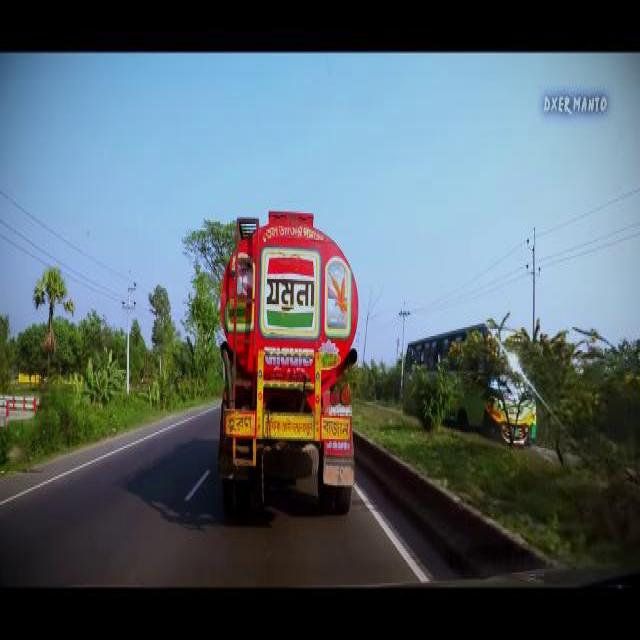vehicle: (218, 203, 361, 525), (451, 316, 539, 437)
